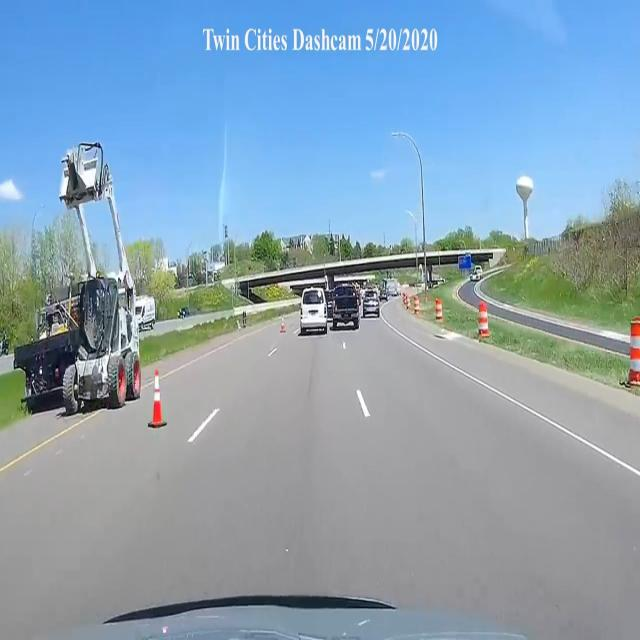Traffic Cone: (145, 369, 166, 428), (279, 314, 288, 336)
